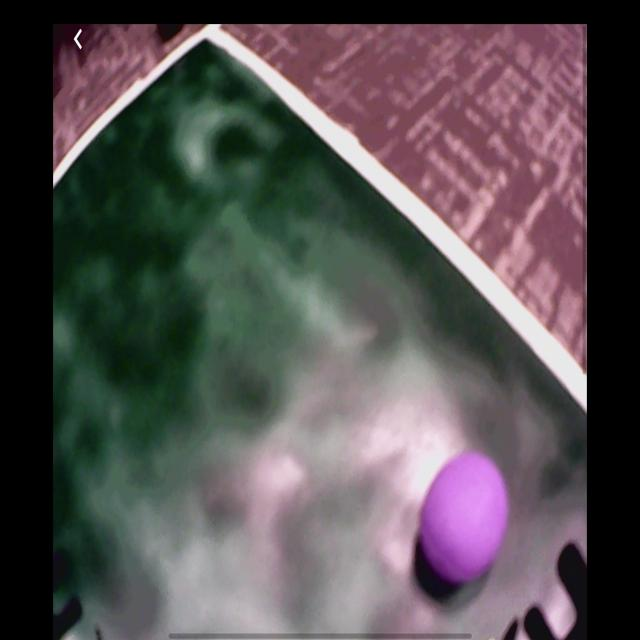ball: (418, 453, 508, 581)
